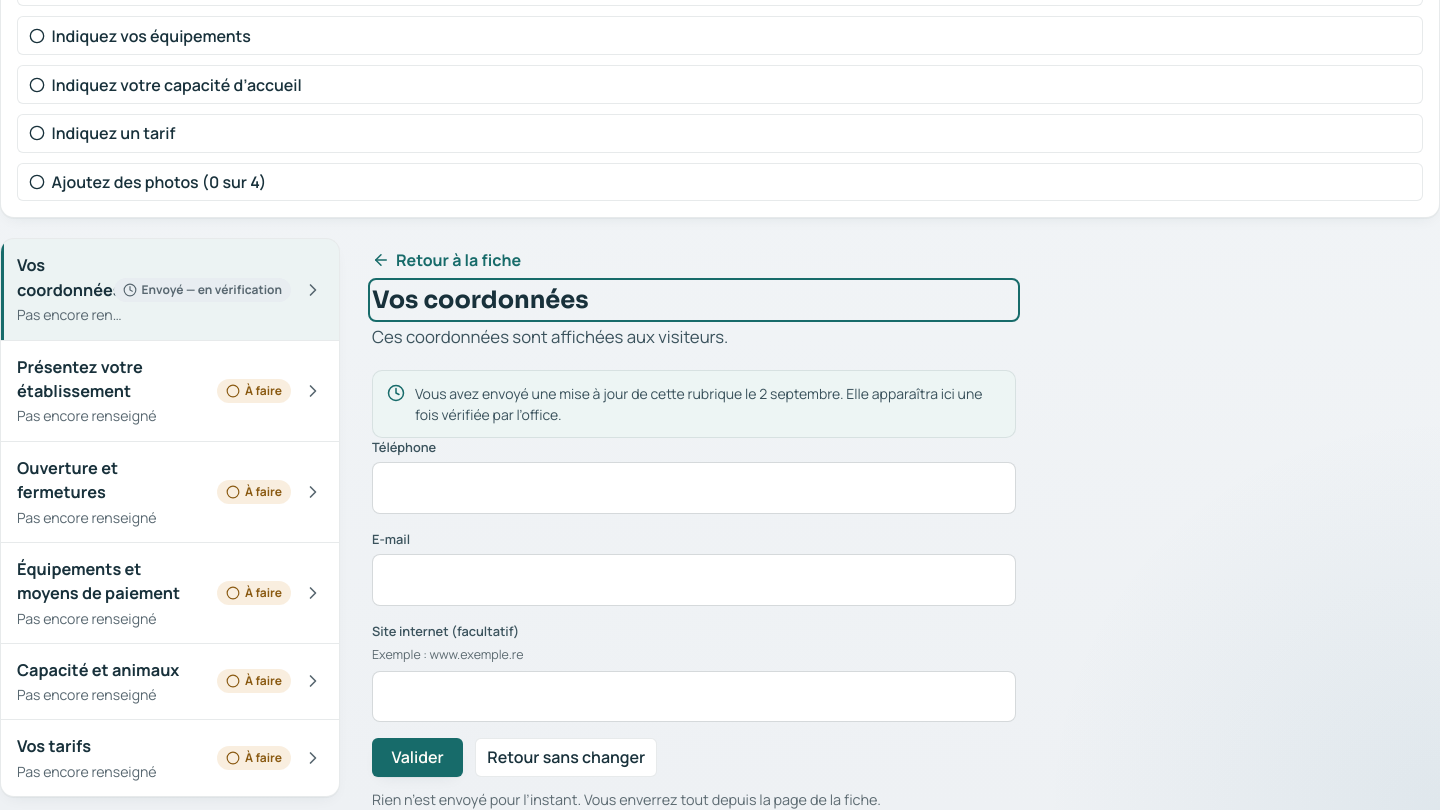
parcours — la rubrique retenue pendant une vérification (IMPORTANT 6) › remodifier une rubrique en vérification l’écrit sur la ligne ET dans la barre
The image size is (1440, 810).
(page scrolled)
In the field labelled "Téléphone": (694, 488) [372,462,1016,514], type "0692 45 12 30"
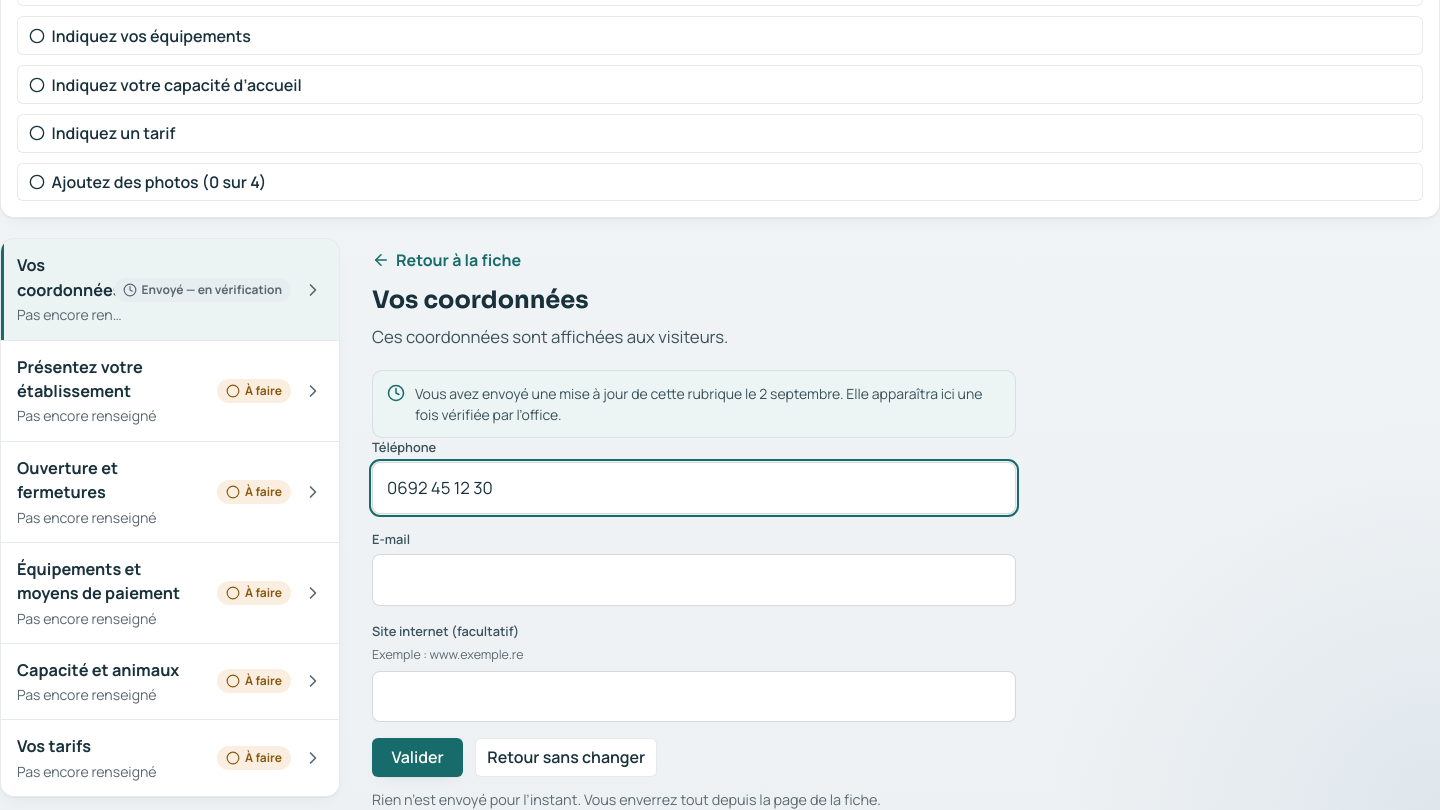
Click the button "Valider": (418, 757) [372,738,463,777]
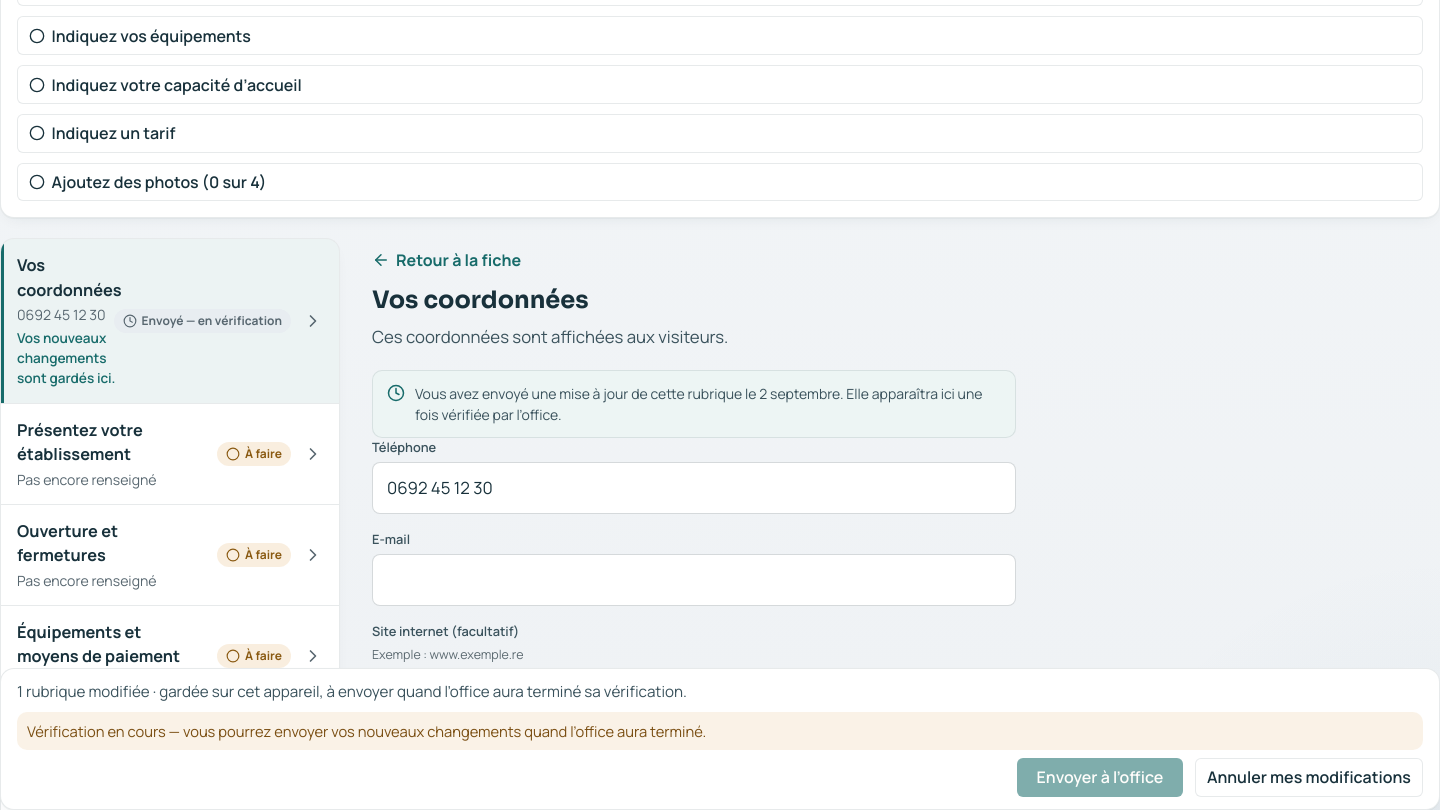
Expected: the text "Vos nouveaux changements sont gardés ici." is shown, [17,328,122,389]
Expected: the text "1 rubrique modifiée · gardée sur cet appareil, à envoyer quand l’office aura terminé sa vérification." is shown, [17,681,687,702]
